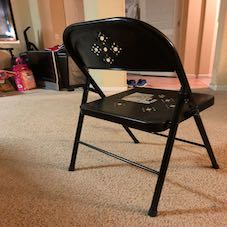chair: (39, 4, 218, 220)
